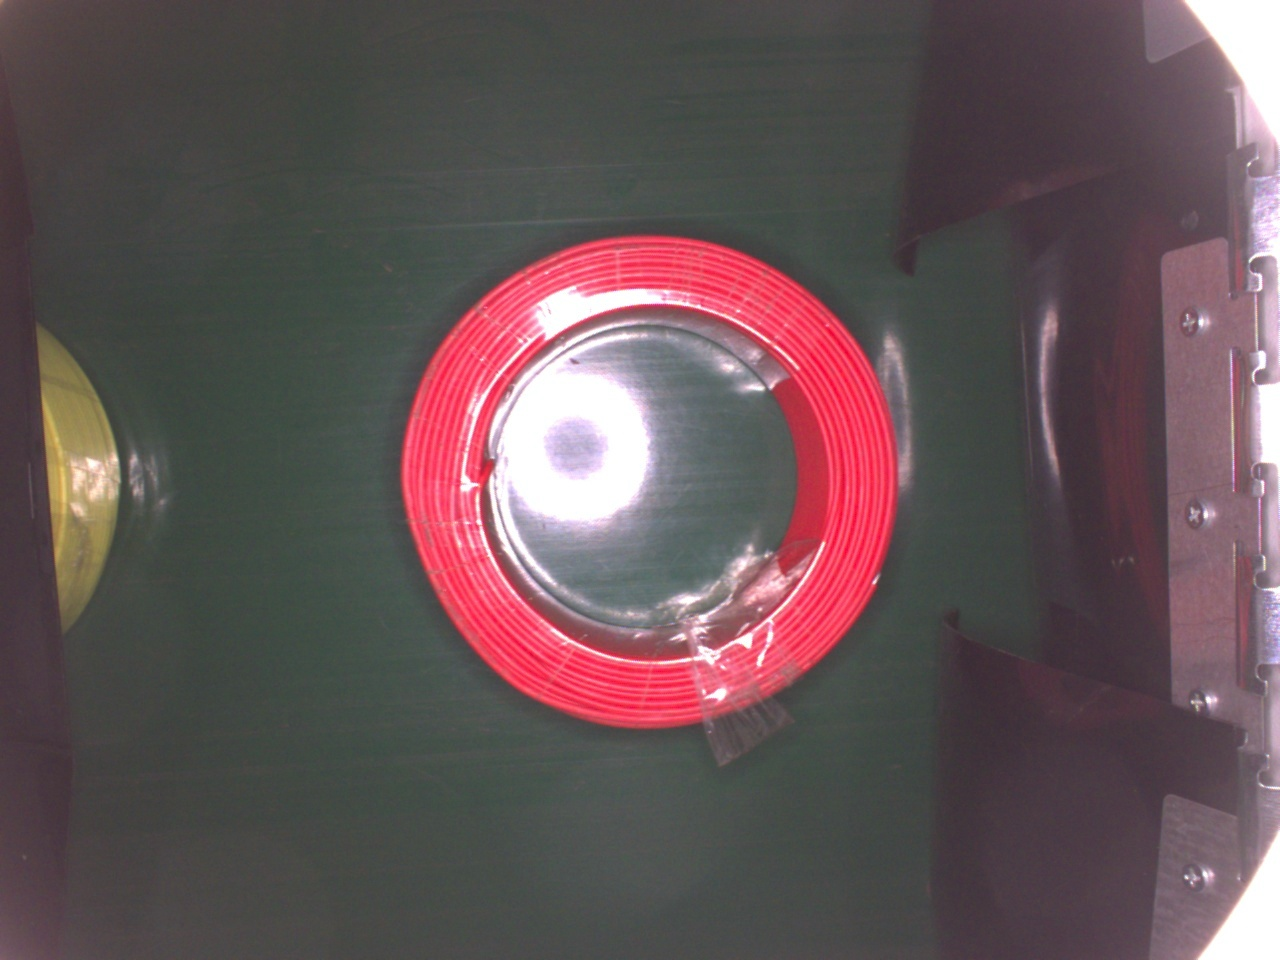red: (395, 229, 908, 738)
